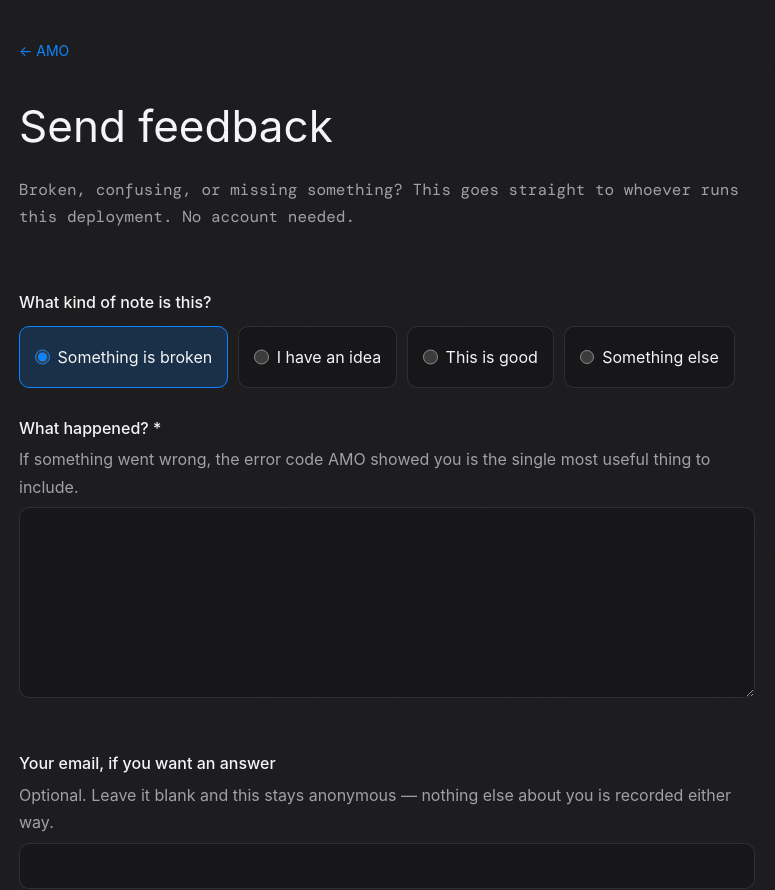
Test case: FeedbackPage › keeps what was written when sending fails
The width and height of the screenshot is (775, 890).
Type "Reconnecting Gmail does not clear GMAIL_REAUTH_REQUIRED on the Inbox screen." into the text box labelled "What happened? *".
click(387, 602); type("Reconnecting Gmail does not clear GMAIL_REAUTH_REQUIRED on the Inbox screen.")  # box [19, 507, 755, 698]
(page scrolled)
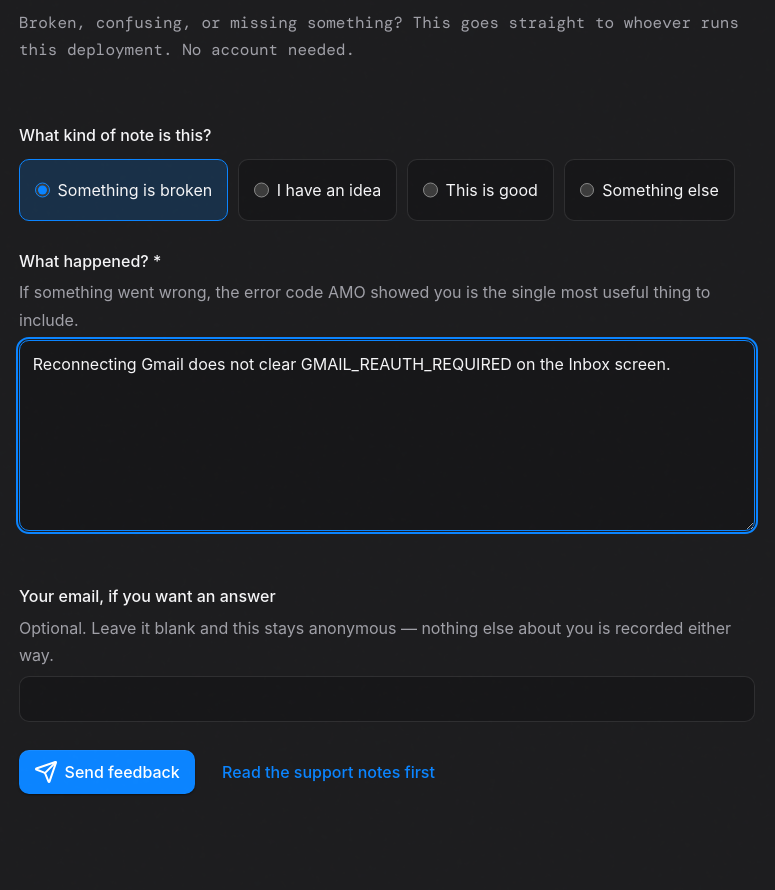
Click the button "Send feedback".
click(107, 772)  # box [19, 750, 195, 794]
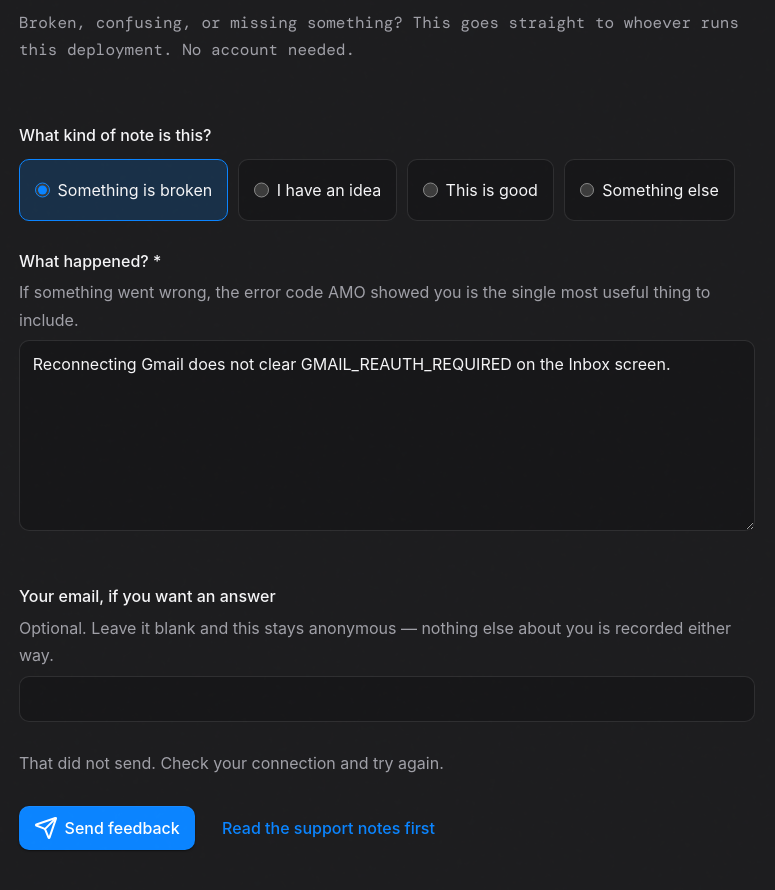
Expected: the button "Send feedback" is enabled, [19, 806, 195, 850]
Expected: the message "That did not send. Check your connection and try again." is shown, [19, 753, 444, 773]
